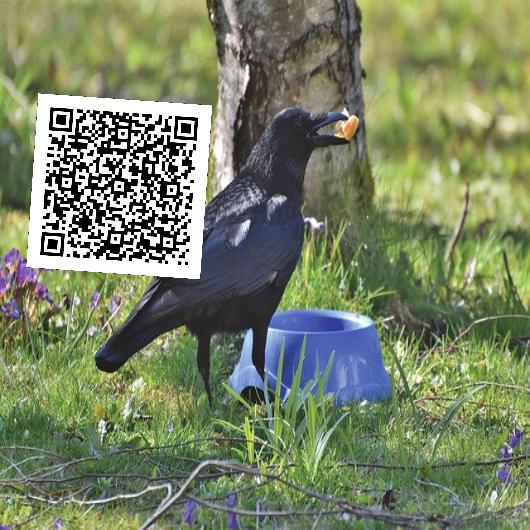qr_code: (26, 94, 211, 278)
